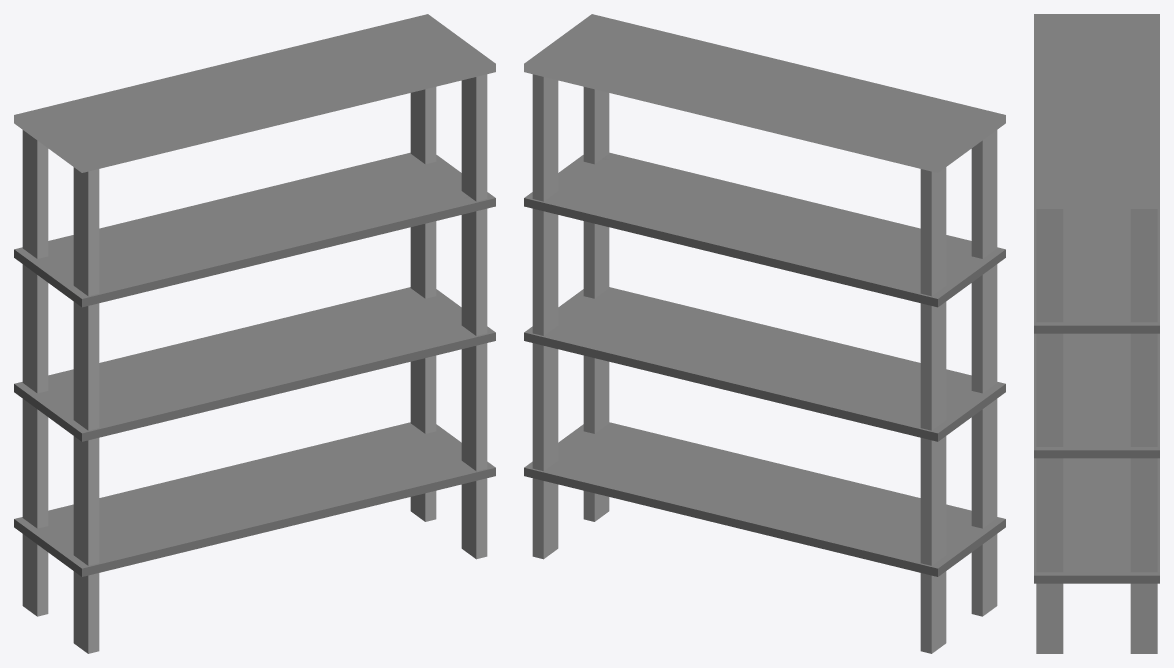
The model's file is Working_shelves.fbx.
3 views of the same model, side by side, from view 1: azimuth 30°, elevation 25°; view 2: azimuth 150°, elevation 25°; view 3: azimuth 270°, elevation 25° (orthographic). The views are drawn at different scales.
Parts seen in each view (by area): view 1: Working_bench; view 2: Working_bench; view 3: Working_bench.
Boxes of the visible parts, left/top/right/bottom form: Working_bench: left=14, top=14, right=495, bottom=653; Working_bench: left=524, top=14, right=1005, bottom=653; Working_bench: left=1034, top=14, right=1159, bottom=653.
Size of the model in its own units: 704 by 800 by 200.
